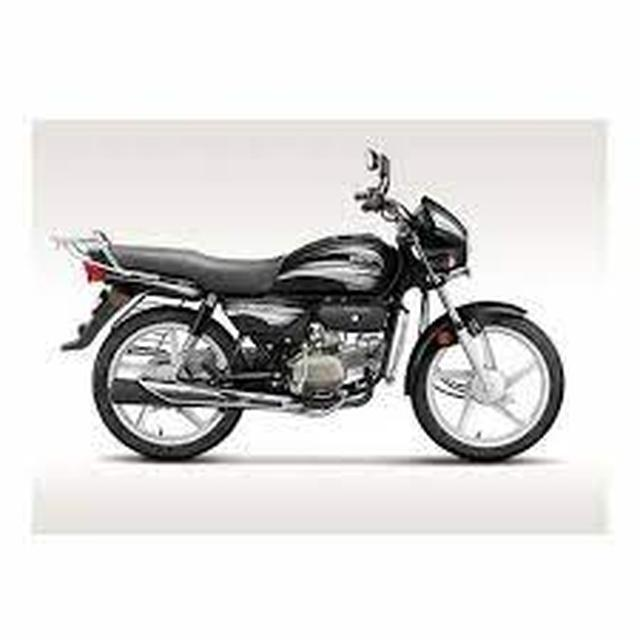motorcycle: (45, 143, 569, 469)
